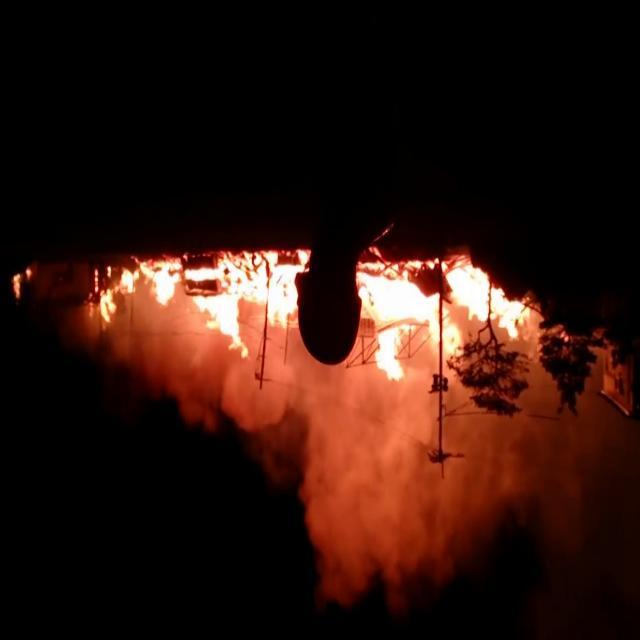Fire: (69, 294, 631, 609), (358, 263, 532, 382), (139, 251, 295, 359), (96, 290, 116, 322), (13, 268, 32, 296), (122, 270, 138, 292), (296, 250, 308, 266)
